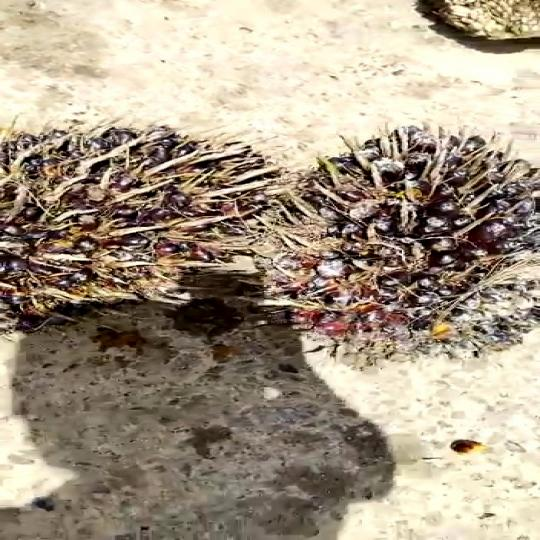mentah: (0, 108, 287, 336), (280, 114, 540, 362)
